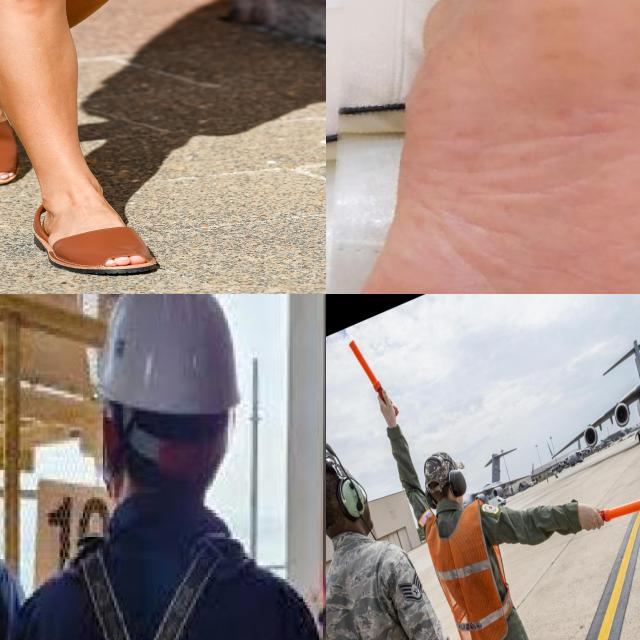Barefoots: (326, 0, 640, 294)
Ear-protection: (326, 418, 377, 557), (415, 432, 479, 533)
Harness: (0, 294, 230, 640)
Sandals: (31, 198, 162, 276)
head_nohelmet: (326, 448, 356, 525), (423, 444, 463, 487)
person: (393, 405, 638, 640), (326, 414, 470, 640)
vest: (416, 510, 513, 640)
